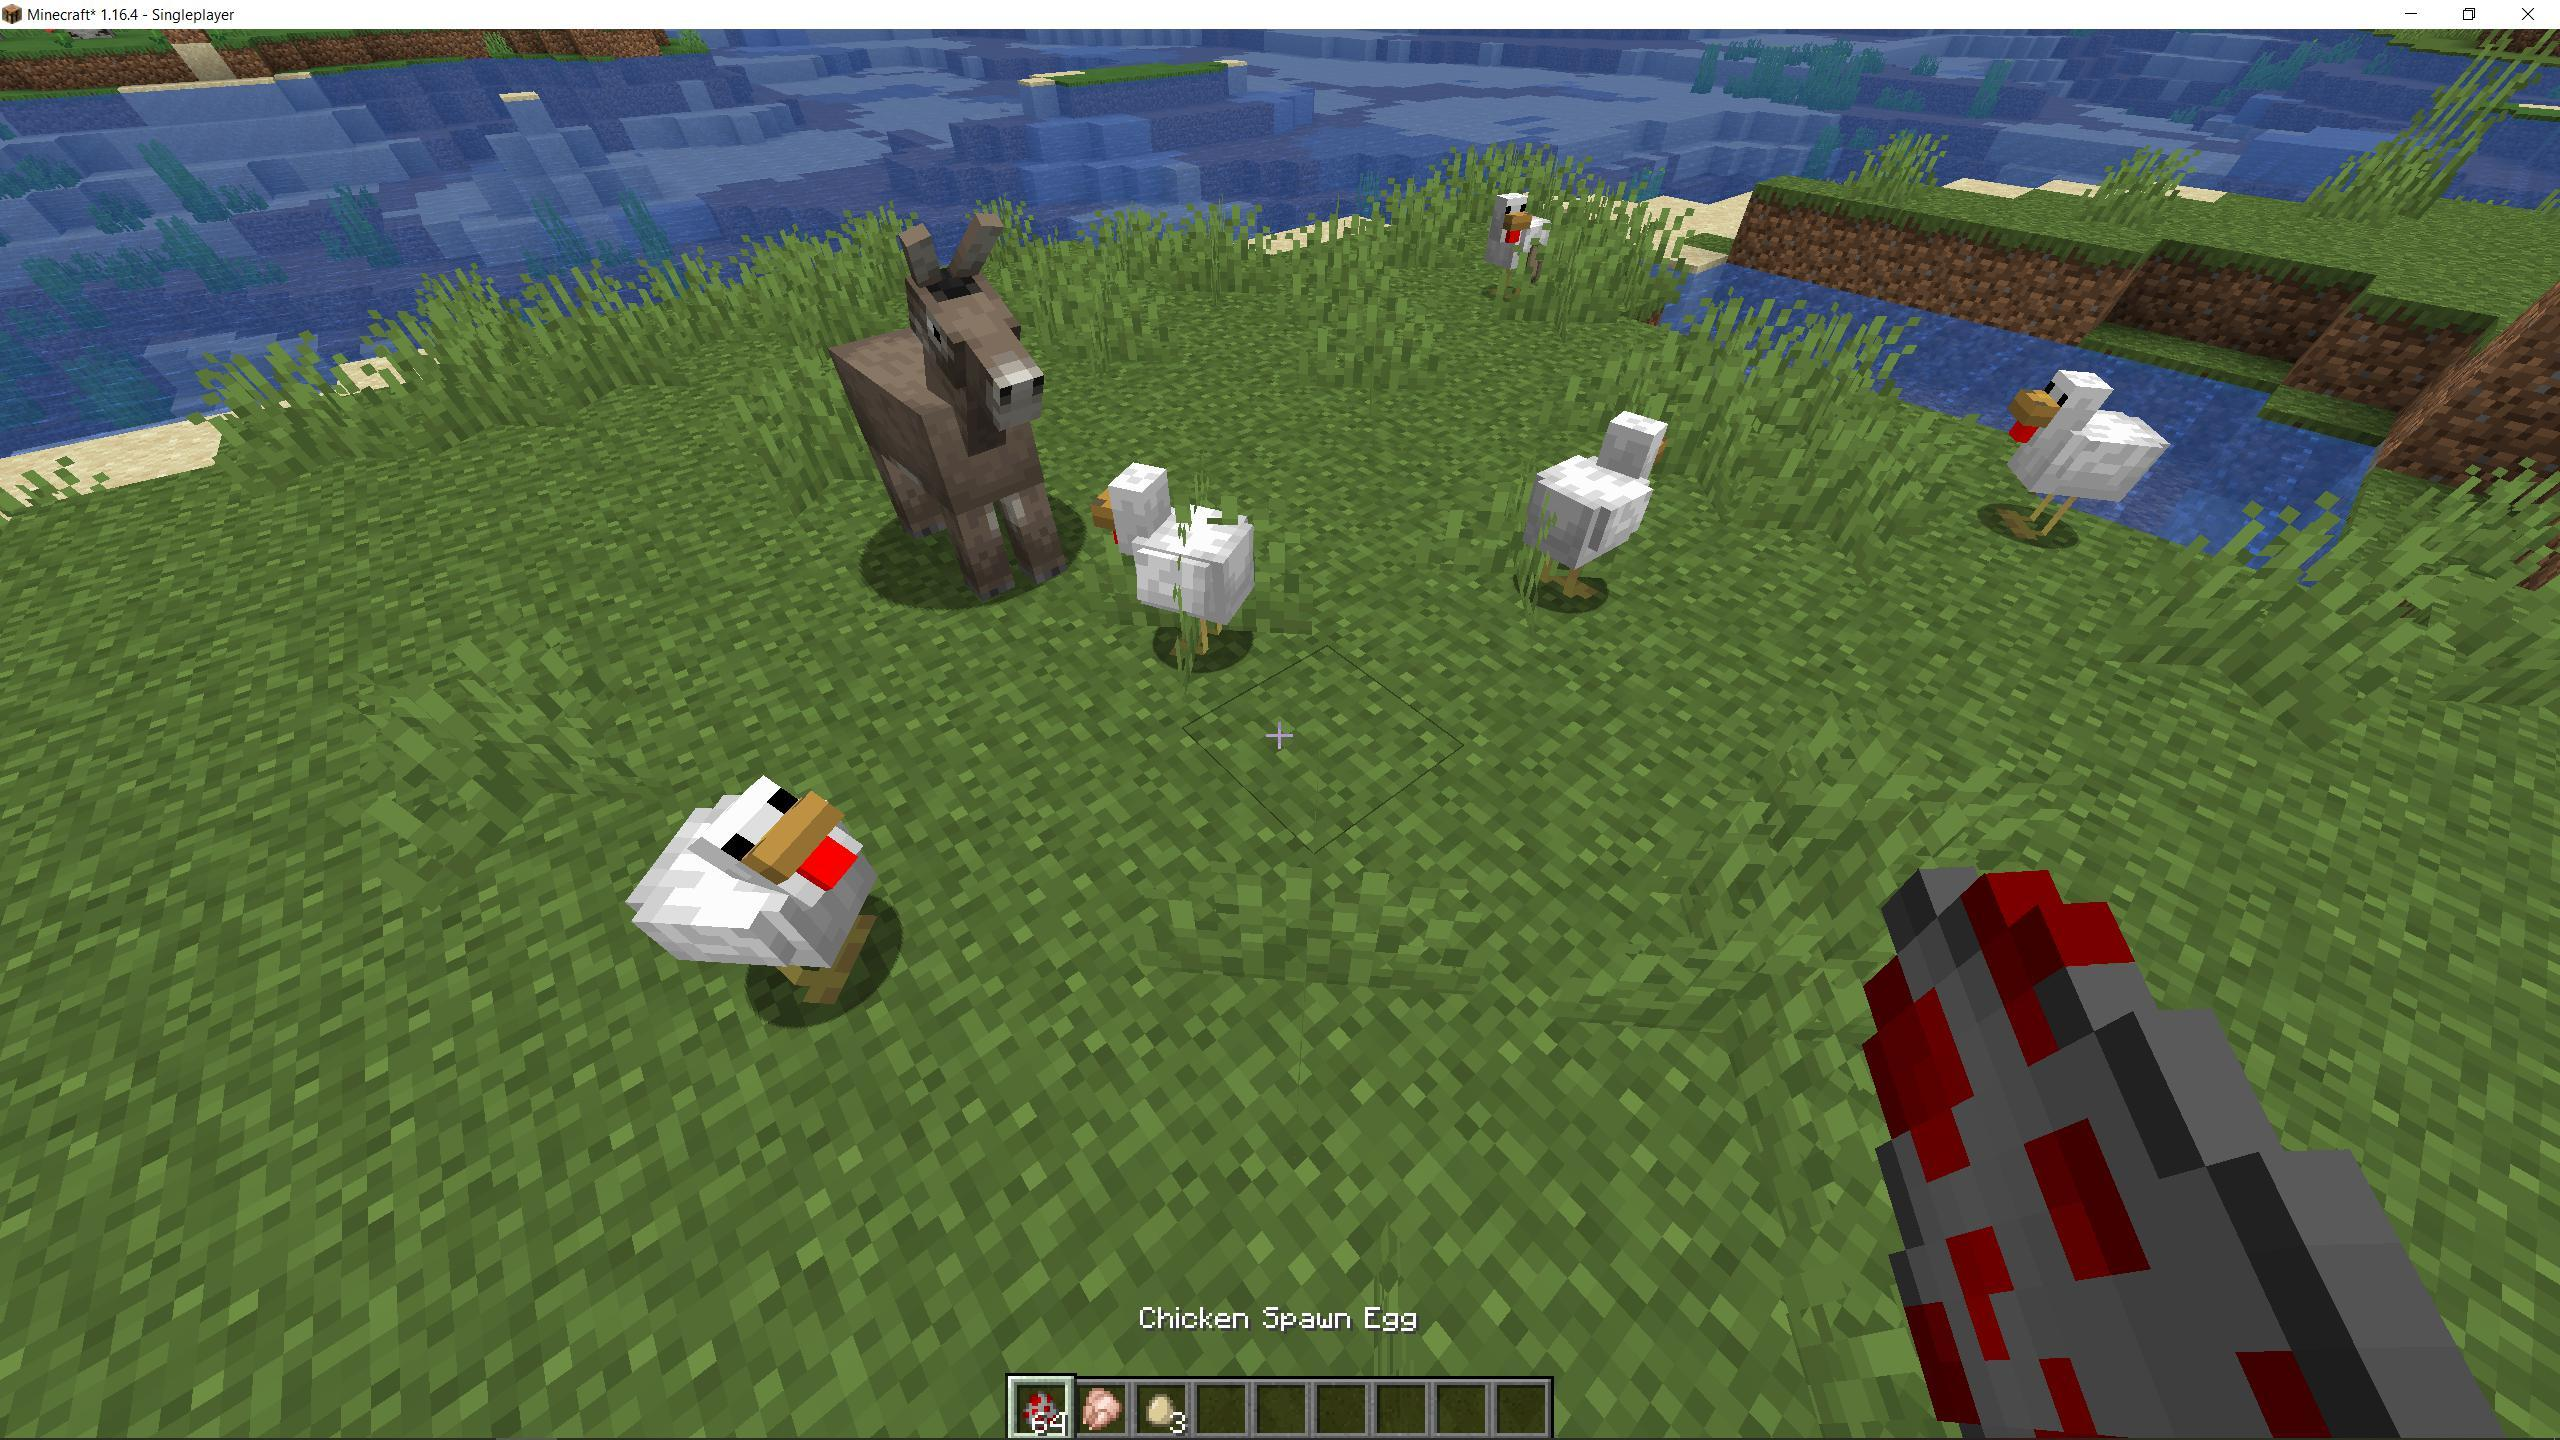chicken: (631, 772, 893, 1020), (1090, 455, 1262, 666), (1989, 366, 2175, 556), (1521, 404, 1674, 601), (1486, 179, 1554, 295)
